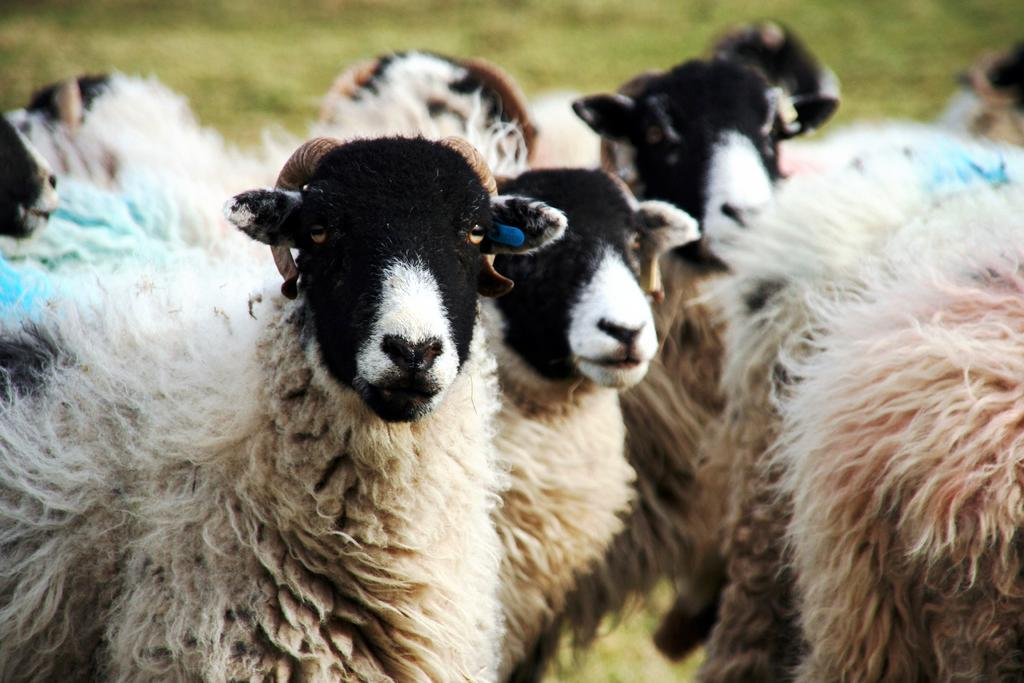Sheep: (10, 123, 530, 682), (567, 43, 795, 630), (745, 228, 1024, 683), (482, 148, 712, 654), (0, 74, 66, 323)
